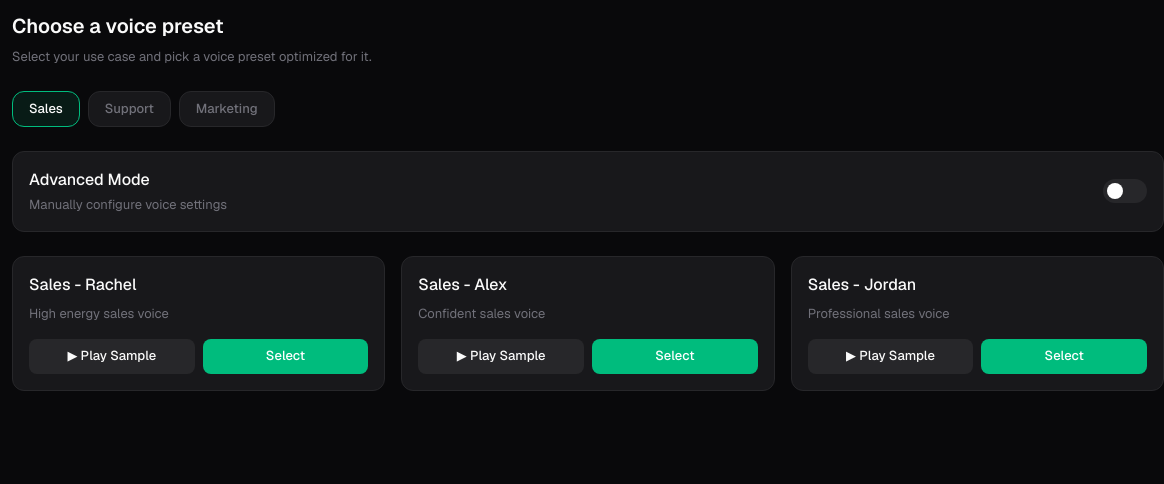
Test case: VoicePresetSelector Preset Highlighting (AC4 - Selected Preset) › [2.6-FRONTEND-AC4-001][P2] Initial Selection State › should show checkmark when preset is selected
The image size is (1164, 484).
Check: the heading "Sales - Rachel" is shown, box [29,274,136,295]
Select first preset
Click the button with test id "select-button".
click(286, 357)  # box [203,339,368,374]
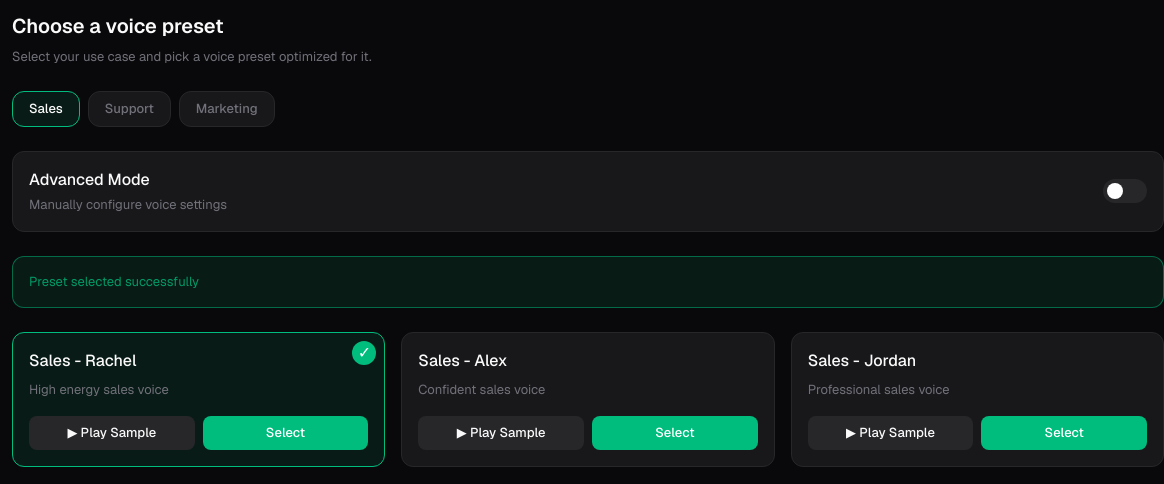
Check: the text "✓" is shown, box [352,341,376,365]
